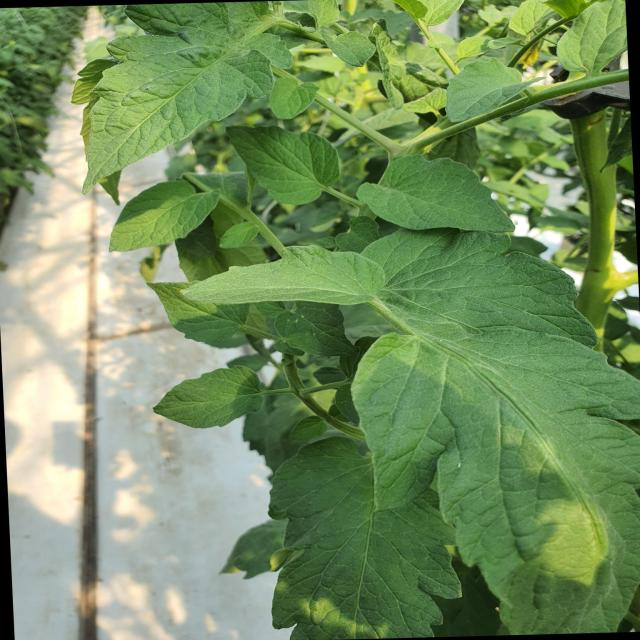Healthy Leaf: (348, 252, 640, 634), (80, 30, 276, 200), (351, 152, 526, 239), (166, 240, 388, 306), (220, 118, 347, 208), (100, 175, 228, 260), (150, 359, 273, 432), (439, 55, 547, 129)
